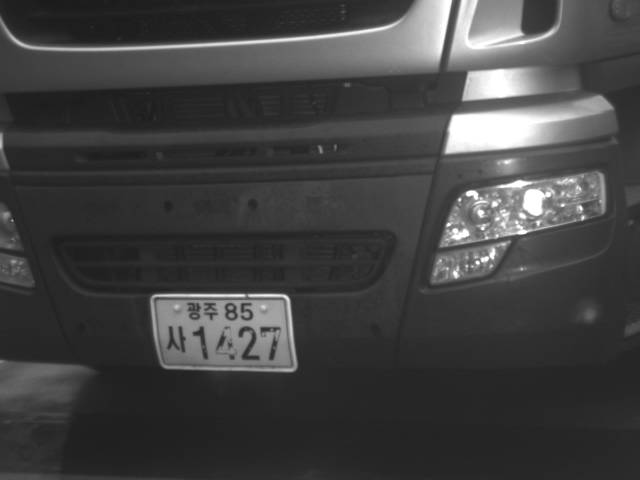car: (1, 1, 639, 378)
plate: (151, 294, 298, 371)
